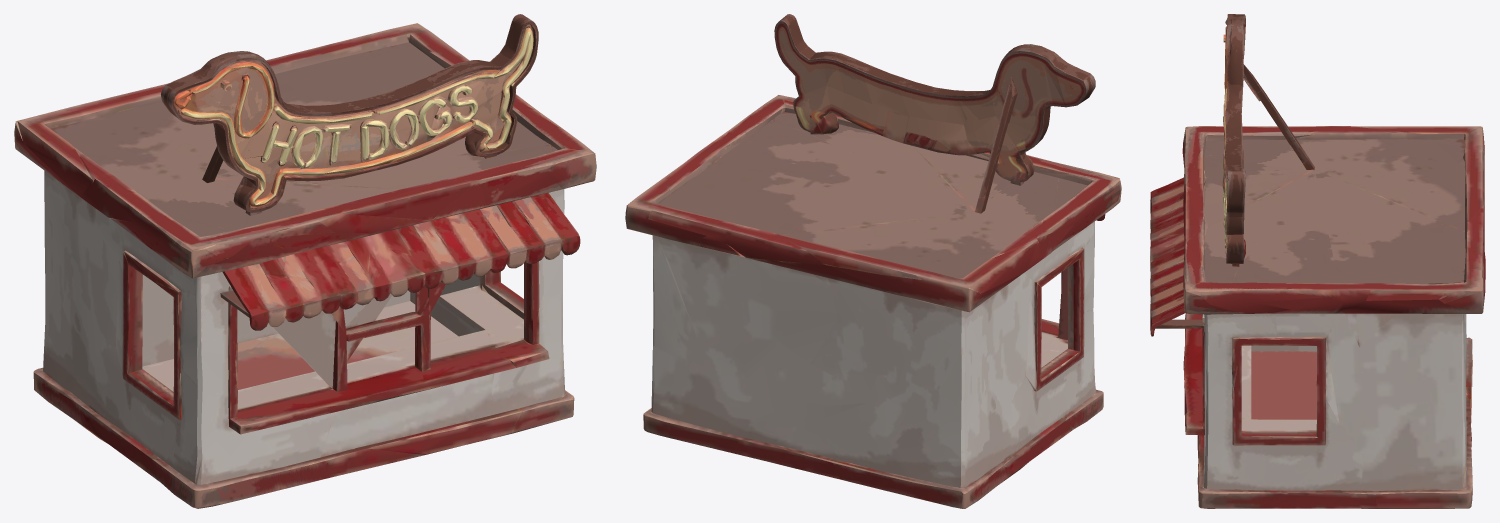
The model's file is doghouse.glb.
The picture shows the model from 3 angles, left to right: view 1: azimuth 30°, elevation 25°; view 2: azimuth 150°, elevation 25°; view 3: azimuth 270°, elevation 25°; orthographic projection. The views are drawn at different scales.
Parts seen in each view (by area): view 1: placed; view 2: placed; view 3: placed.
Part boxes in pixels (bbox=[...]): placed: bbox=[14, 14, 596, 508]; placed: bbox=[625, 14, 1121, 508]; placed: bbox=[1150, 14, 1485, 508].
Size of the model in its own units: 9 by 8.97 by 7.64.
1 material, 1 textured.
